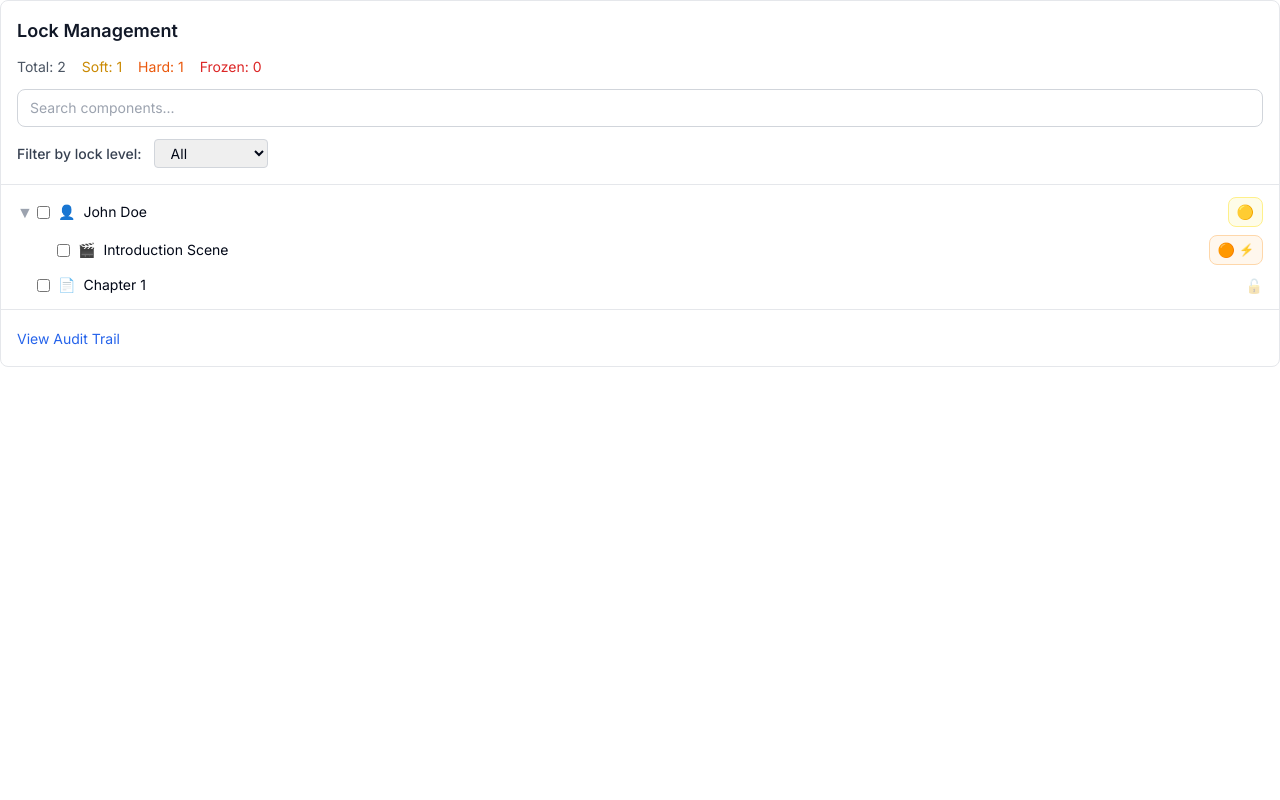
Test: LockManagementPanel › Bulk Operations › opens bulk lock dialog when Bulk Lock is clicked
Click the checkbox next to "John Doe": (44, 212) [37,206,50,218]
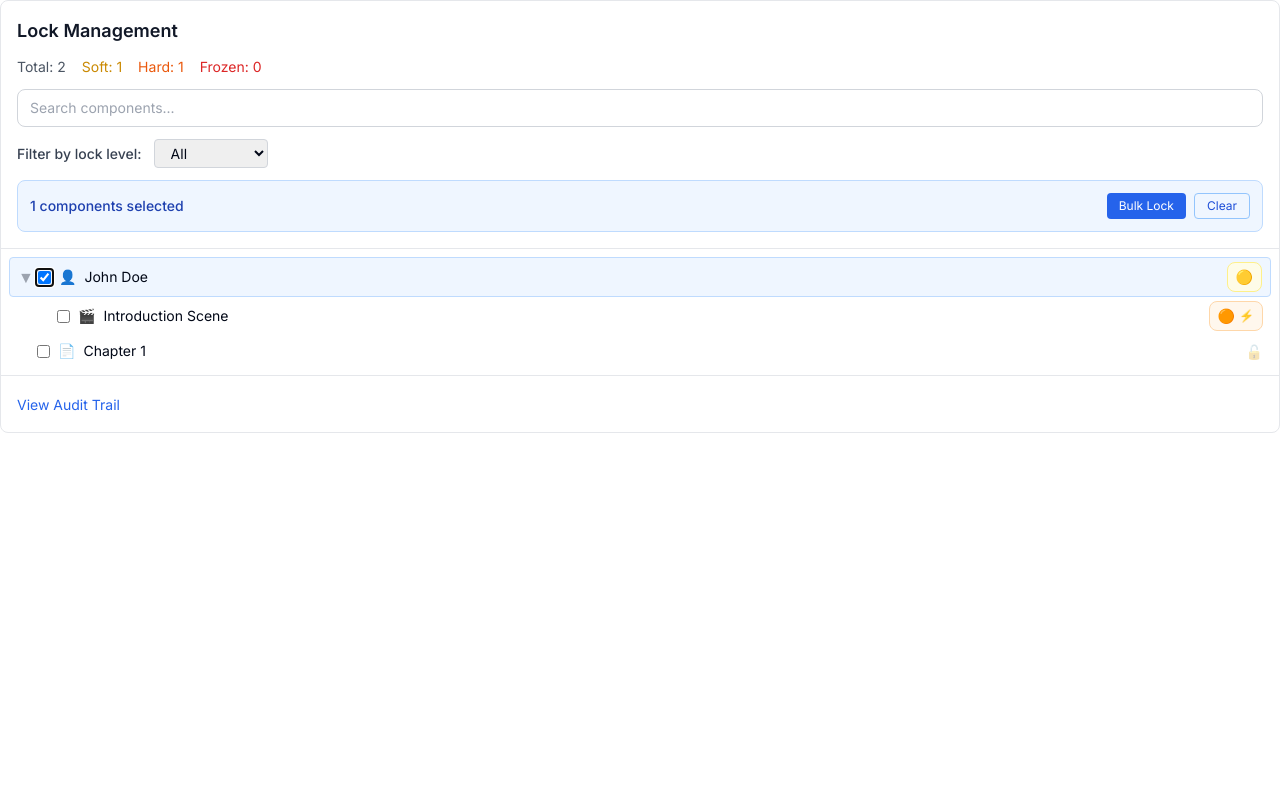
Click the button "Bulk Lock": (1146, 206) [1107,193,1186,219]
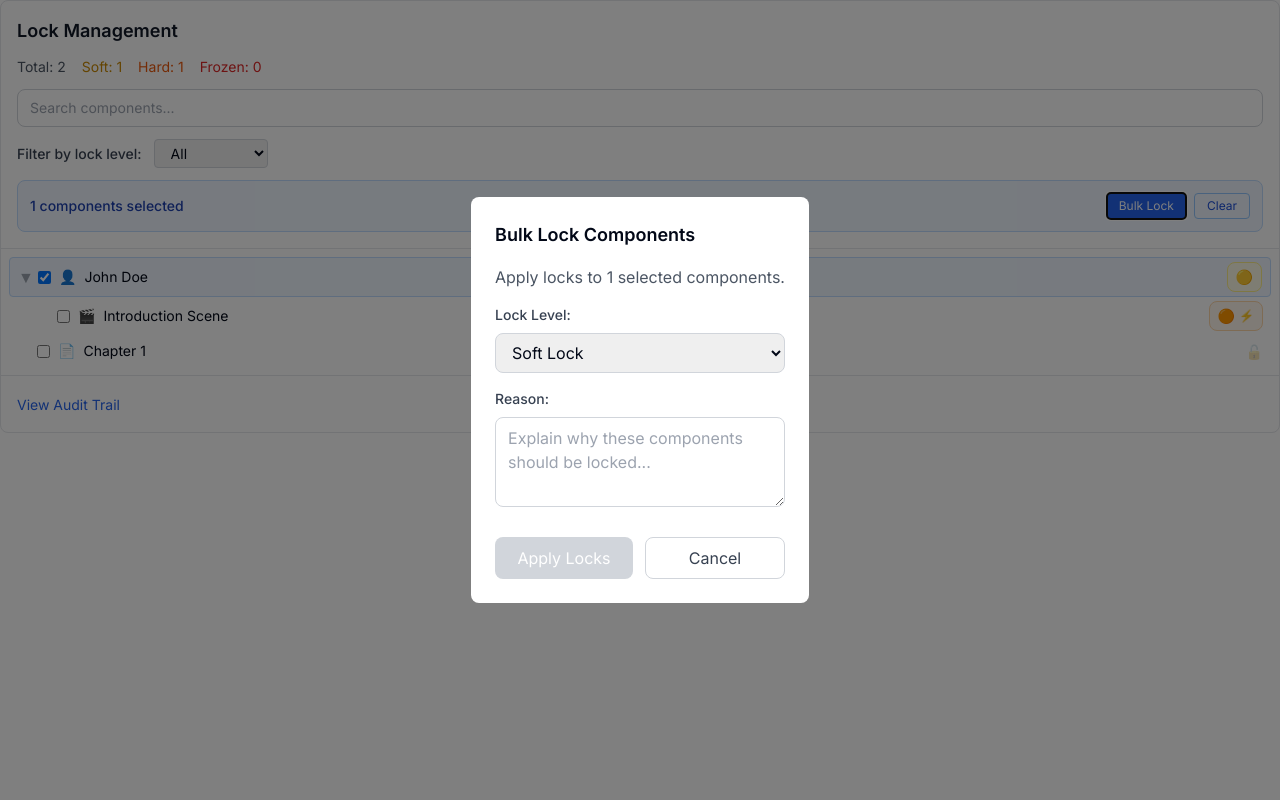
Check: the heading "Bulk Lock Components" is shown, box [495,224,695,245]
Check: the dropdown labelled "Lock Level:" is shown, box [495,333,785,373]
Check: the text box labelled "Reason:" is shown, box [495,417,785,507]
